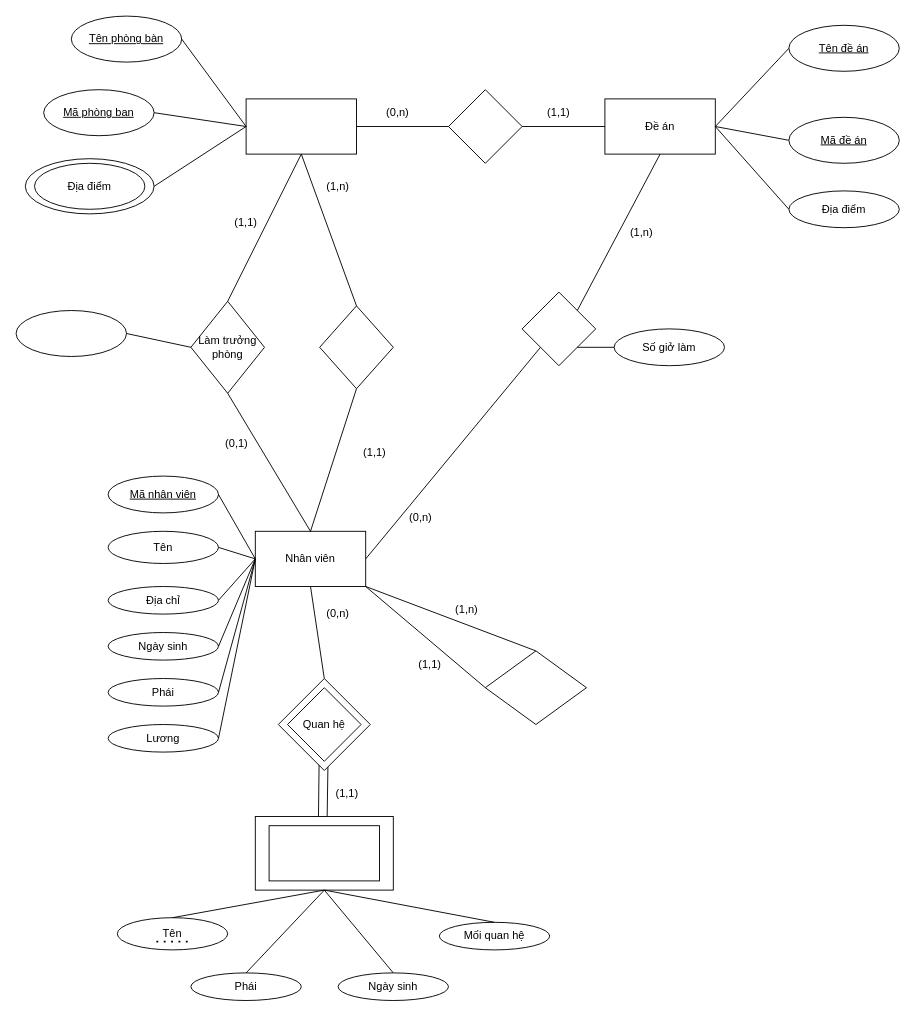
The diagram is 915 pixels wide and 1017 high, and some of its shapes have lost their labels. The centre of each missing label's shape, as x and y in pixels:
"Chủ trì" goes at point 485,126.
"Làm việc" goes at point 356,347.
"Ngày nhận chức" goes at point 70,333.
"Người quản lý" goes at point 535,687.
"Nhân thân" goes at point 324,853.
"Phòng ban" goes at point 300,126.
"Tham gia" goes at point 558,328.
